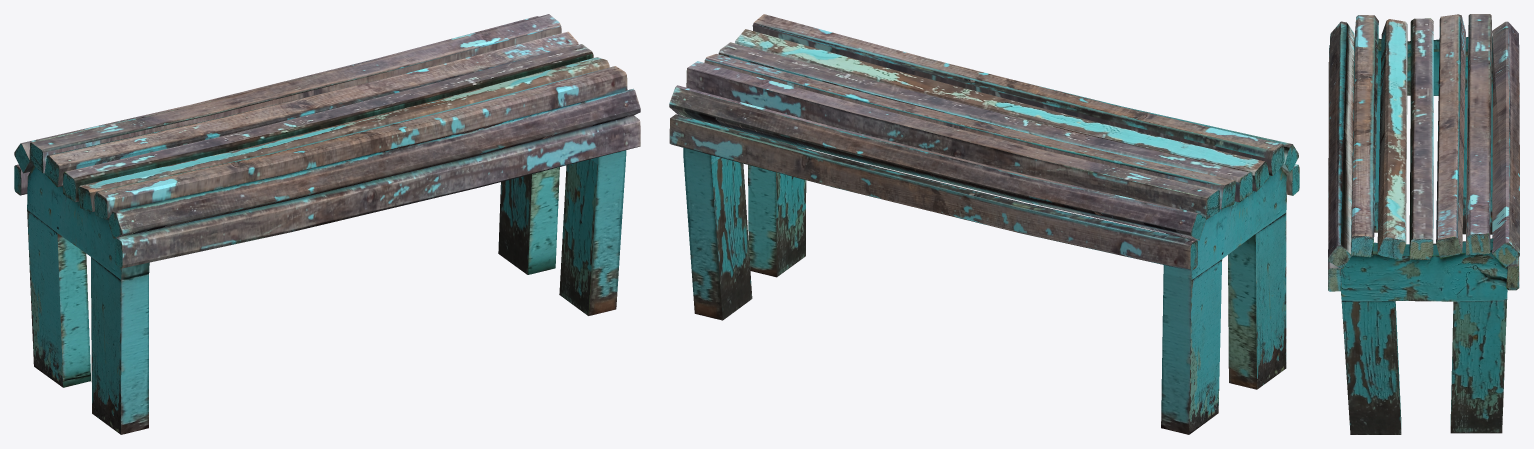
The model's file is Bench_wooden_01.fbx.
3 views of the same model, side by side, from view 1: azimuth 30°, elevation 25°; view 2: azimuth 150°, elevation 25°; view 3: azimuth 270°, elevation 25° (orthographic). The views are drawn at different scales.
Parts seen in each view (by area): view 1: Bench_wooden_01; view 2: Bench_wooden_01; view 3: Bench_wooden_01.
Part boxes in pixels (x1,y1,x2,y2): Bench_wooden_01: (14, 14, 640, 434); Bench_wooden_01: (669, 14, 1299, 434); Bench_wooden_01: (1328, 14, 1519, 434).
Size of the model in its own units: 91.59 by 33.49 by 39.71.
1 material, 1 textured.
